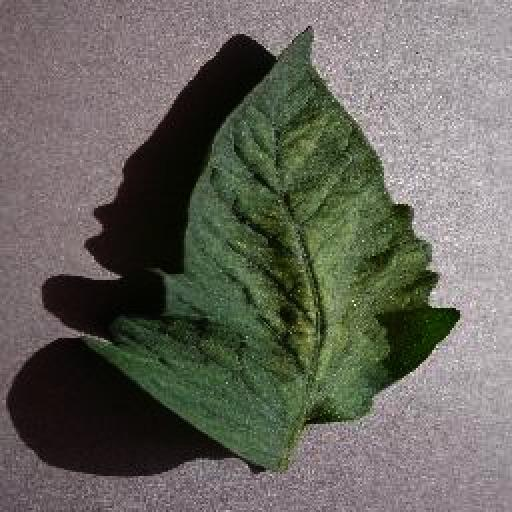disease_tomato: (82, 22, 460, 470)
